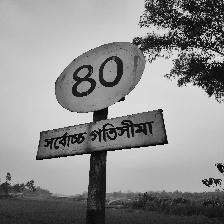Speed-limit: (37, 41, 166, 160)
